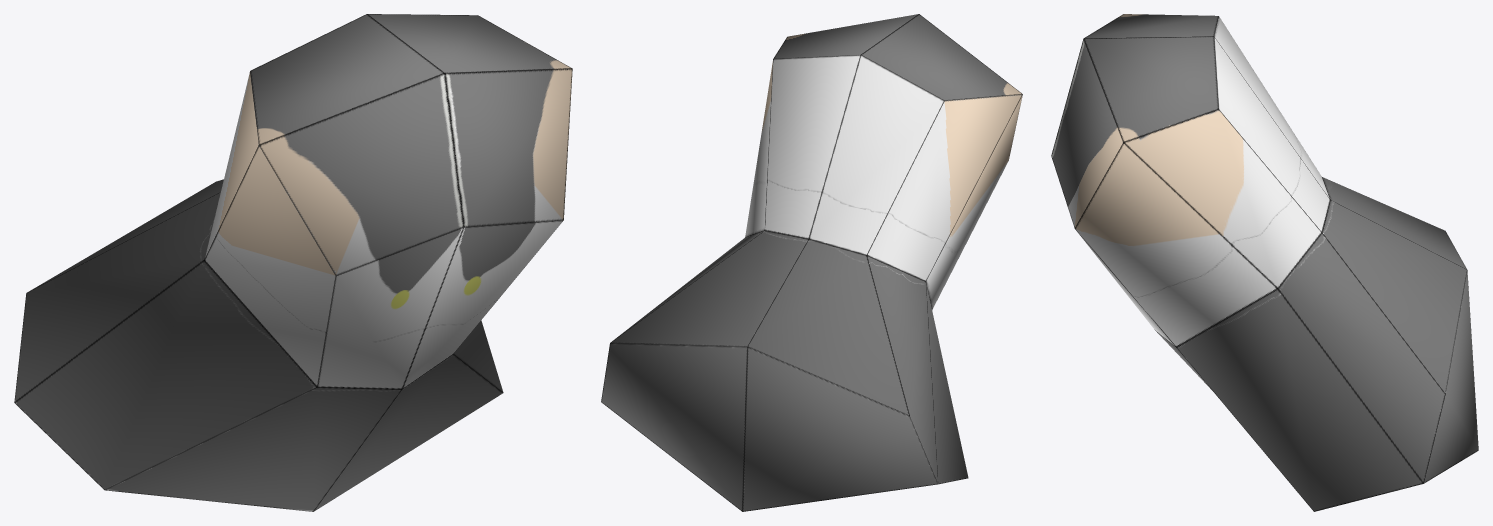
The model's file is playerBody.obj.
The picture shows the model from 3 angles, left to right: view 1: azimuth 30°, elevation 25°; view 2: azimuth 150°, elevation 25°; view 3: azimuth 270°, elevation 25°; orthographic projection. The views are drawn at different scales.
Parts seen in each view (by area): view 1: 体; view 2: 体; view 3: 体.
Boxes of the visible parts, <box> form: 体: <box>14,14,572,511</box>; 体: <box>601,14,1022,511</box>; 体: <box>1051,14,1478,511</box>.
Bounding box in the file's own units: 1.51 × 1.72 × 1.48.
